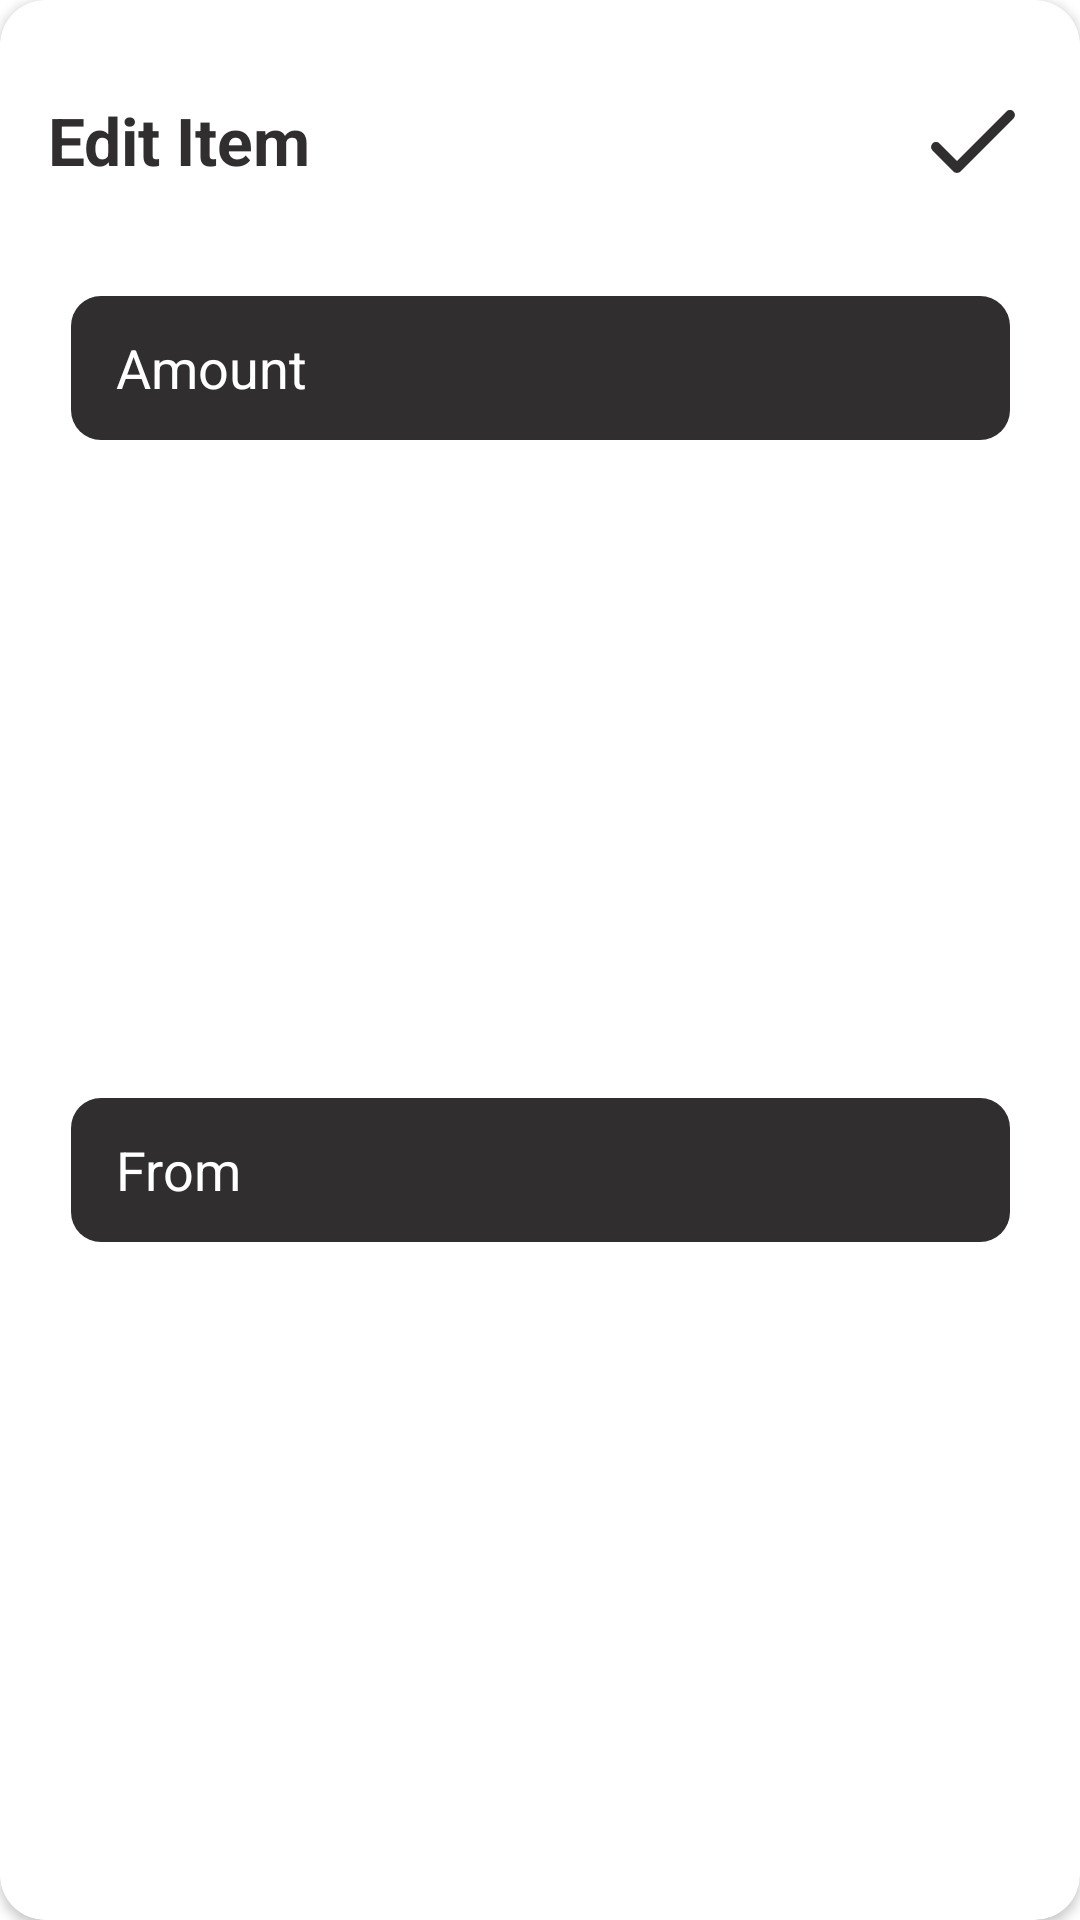

Locate icon controls on the screen. Image size 1080 x 1920, boxes as region(x1, y1, x2, y2).
done: region(931, 110, 1015, 173)
